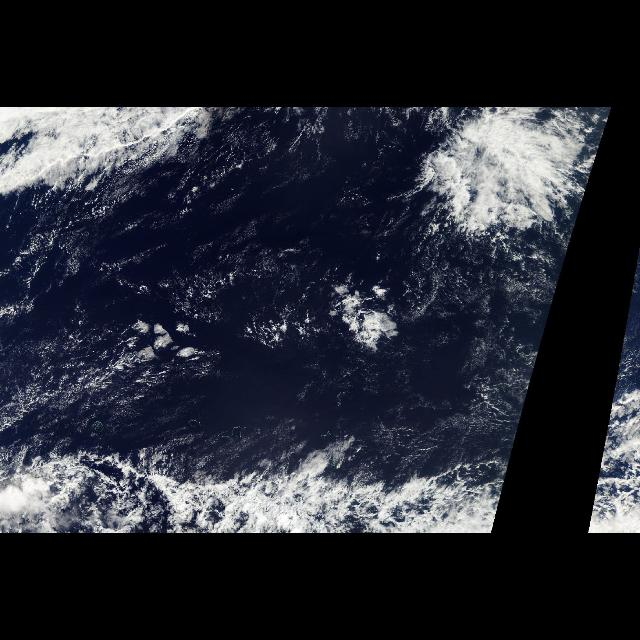Sugar: (11, 195, 391, 490)
